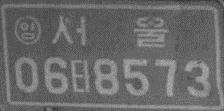0: (13, 55, 39, 94)
3: (184, 59, 212, 99)
5: (122, 57, 149, 97)
6: (43, 56, 69, 95)
7: (153, 57, 178, 98)
8: (93, 57, 119, 95)
서울_D: (51, 14, 169, 48)
영: (13, 14, 42, 45)
타: (70, 58, 91, 93)
